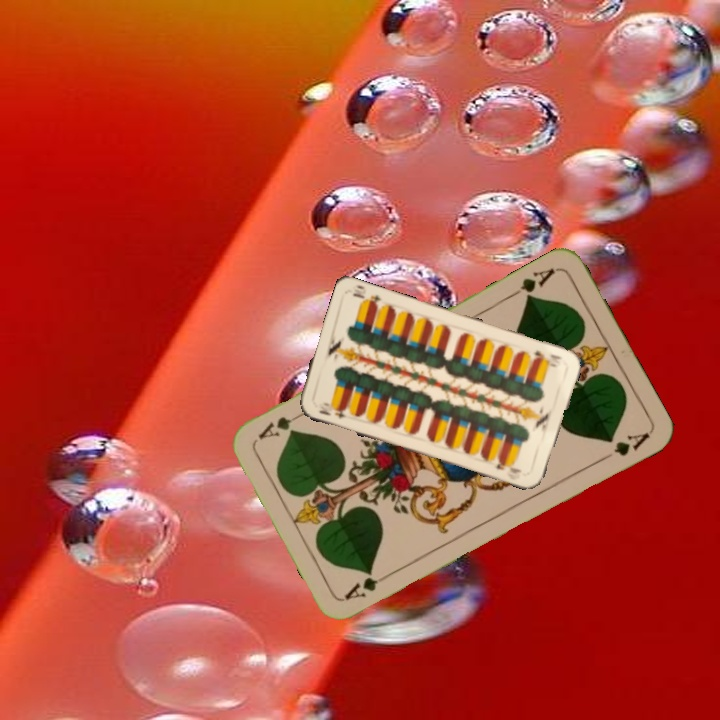E10: (315, 398, 348, 421), (530, 346, 565, 363)
GA: (506, 263, 558, 304), (340, 568, 395, 603)
